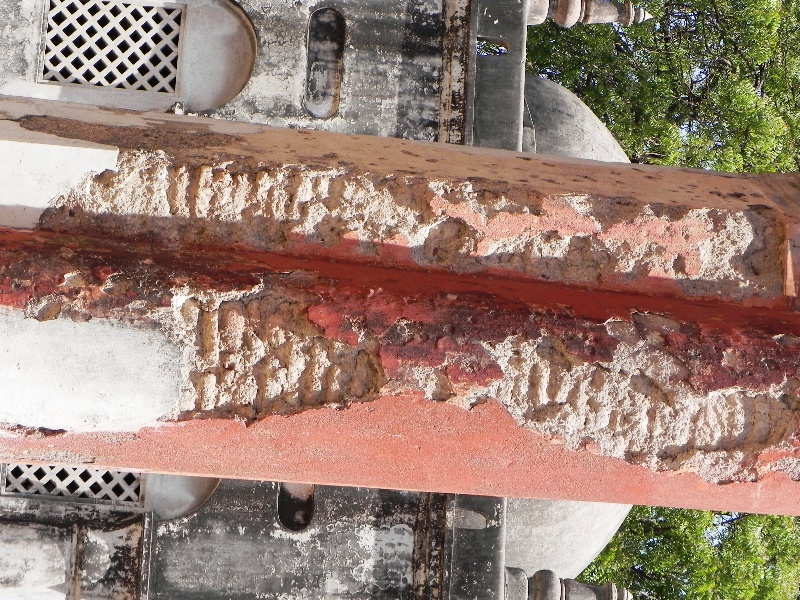Exposed Bricks: (510, 353, 774, 443), (188, 307, 367, 405), (152, 159, 335, 218)
Spalling: (341, 162, 785, 307)
